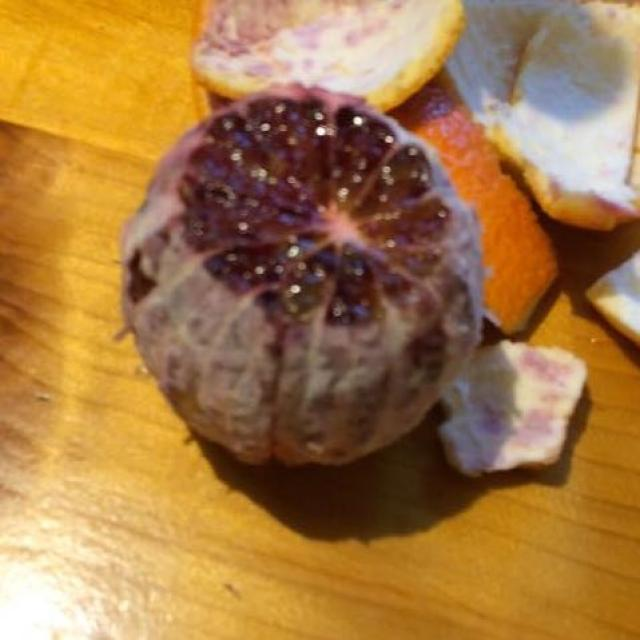orange: (128, 86, 485, 467)
